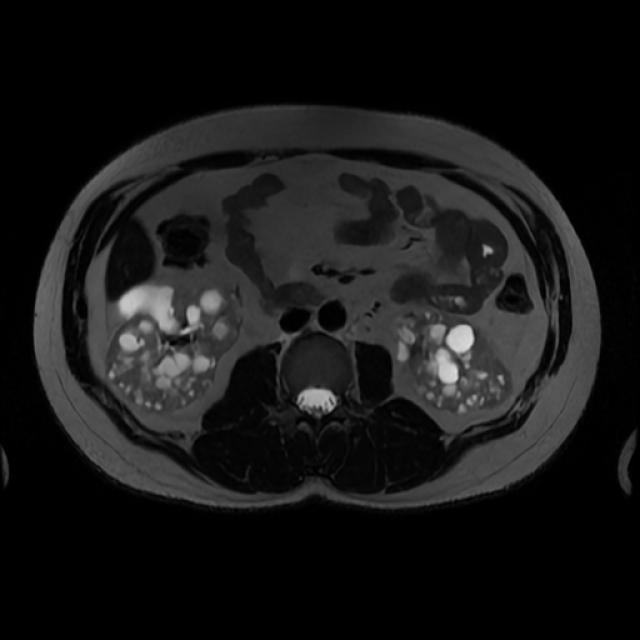sag: (104, 285, 240, 414)
sol: (393, 311, 512, 414)
